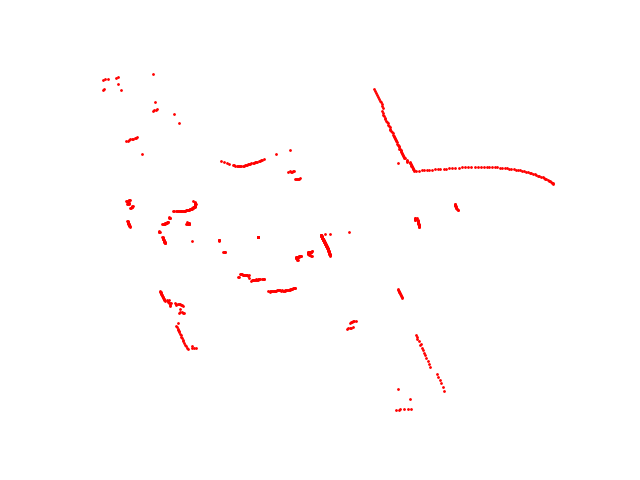person: (291, 249, 316, 265), (285, 166, 305, 185)
